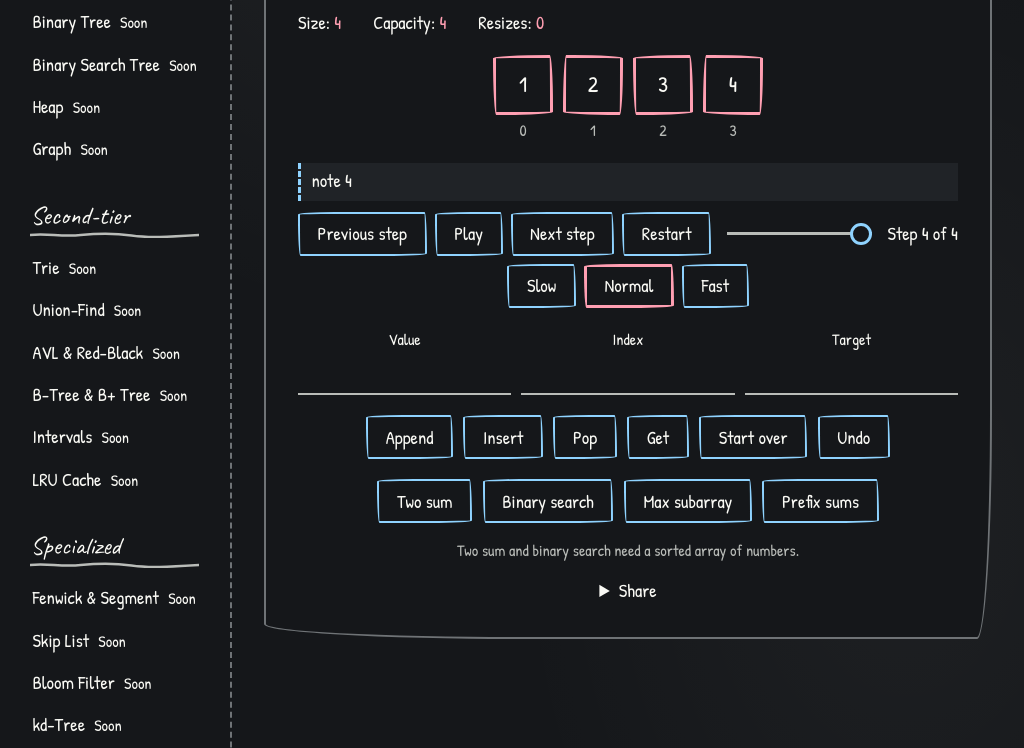
Scenario: one app at / and /v › the first edit puts the command in the address
(page scrolled)
Expected: the text "Step 4 of 4" is shown, [888,220,958,247]
Type "9" into the field labelled "Value".
click(405, 373); type("9")  # box [298,351,511,395]
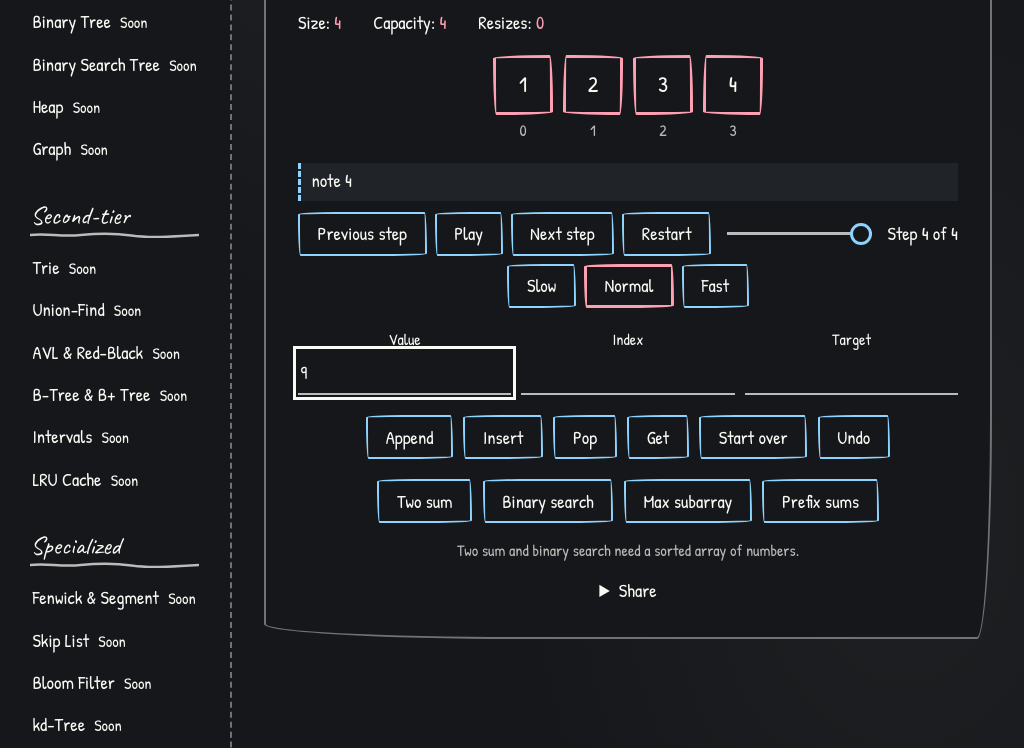
Click the button "Append".
click(410, 437)  # box [366,415,453,459]
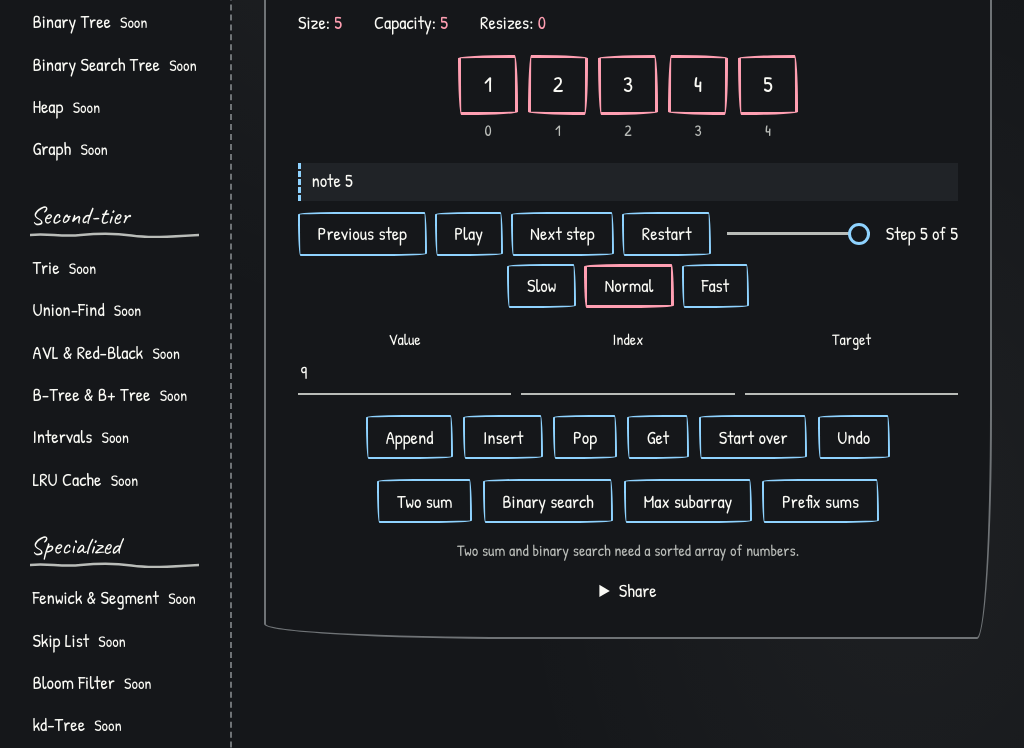
Result: the text "Step 5 of 5" is shown at [886,220,958,247]
